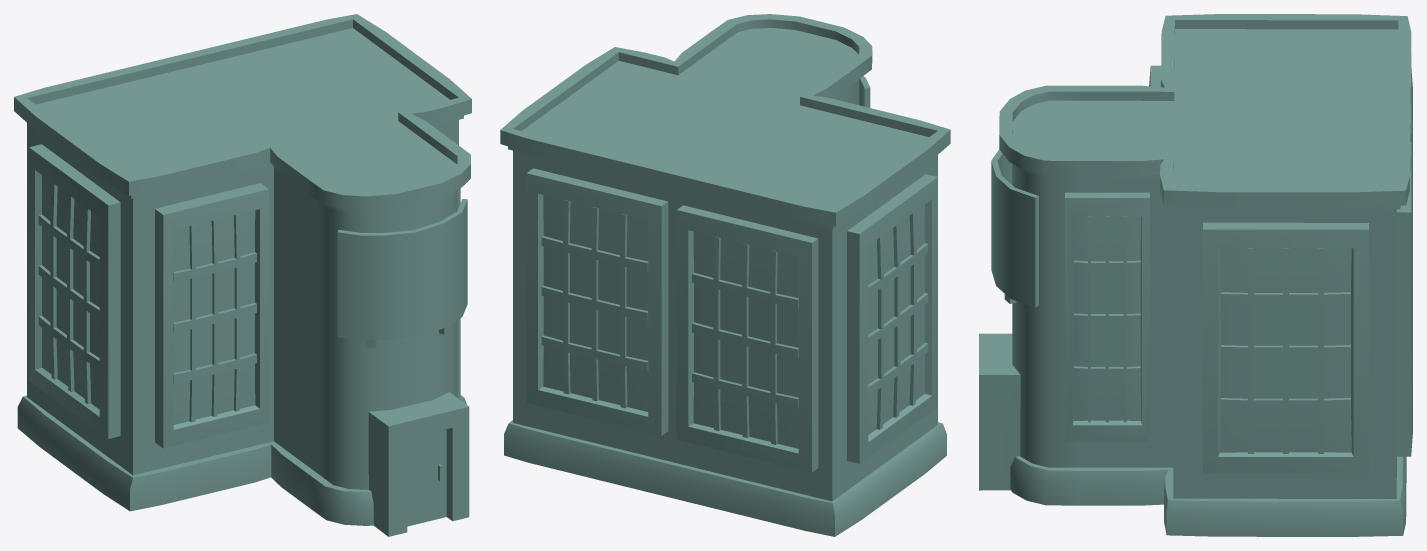
File: building 4.fbx
3 views of the same model, side by side, from view 1: azimuth 30°, elevation 25°; view 2: azimuth 150°, elevation 25°; view 3: azimuth 270°, elevation 25° (orthographic). The views are drawn at different scales.
Parts seen in each view (by area): view 1: building 4; view 2: building 4; view 3: building 4.
Part boxes in pixels (x1,y1,x2,y2): building 4: (14,14,471,536); building 4: (500,14,950,536); building 4: (979,14,1412,536).
Bounding box in the file's own units: 3314 × 2962 × 3360.
